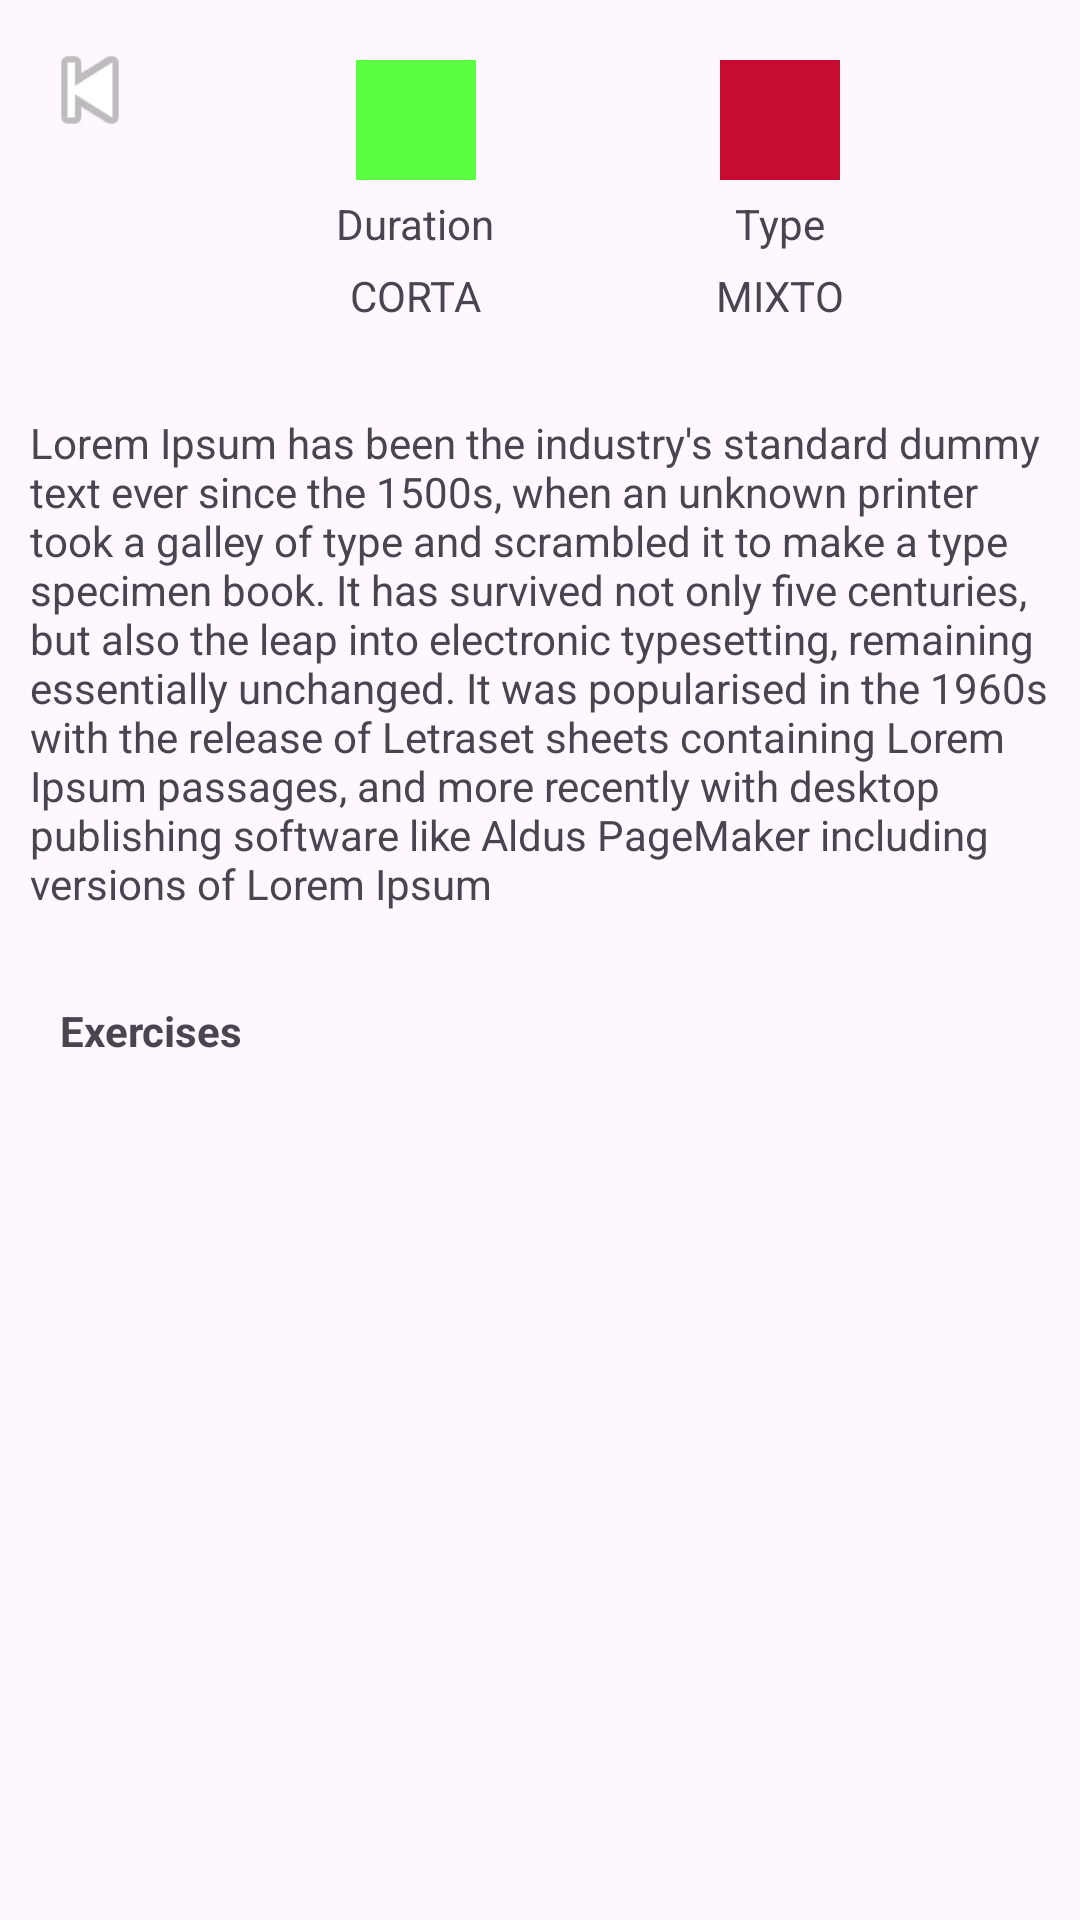

Where to tap for icons on this 1080px×1920px app screen, as point (x, y):
previous: point (90, 90)
